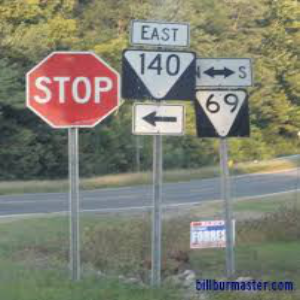STOP_SIGN: (26, 50, 120, 127)
